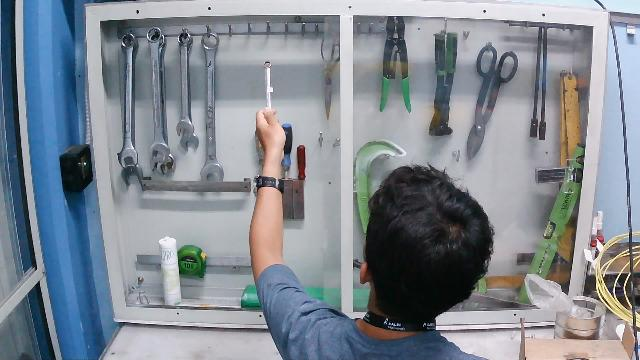kunci_pass_13: (249, 26, 289, 134)
